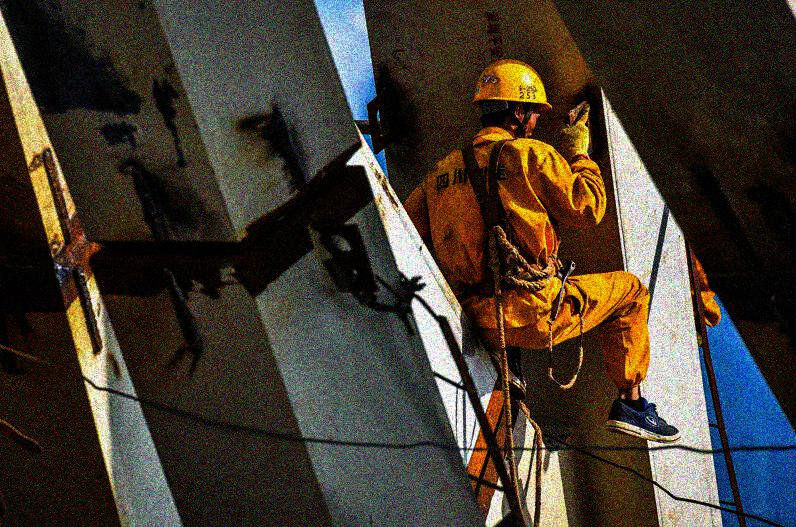helmet: (470, 57, 556, 141)
